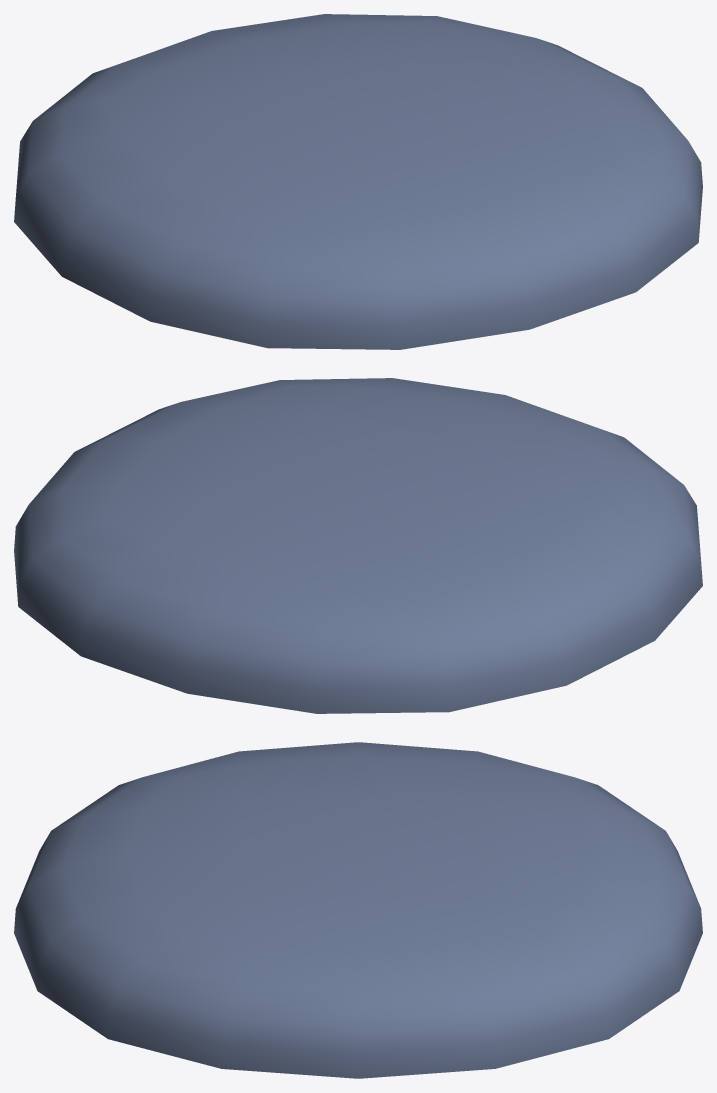
Rendered from Rock-S.fbx.
3 views of the same model, one above another, from view 1: azimuth 30°, elevation 25°; view 2: azimuth 150°, elevation 25°; view 3: azimuth 270°, elevation 25° (orthographic).
Visible parts, largest first — view 1: Rock-S_LOD0; view 2: Rock-S_LOD0; view 3: Rock-S_LOD0.
Part boxes in pixels (x1,y1,x2,y2): Rock-S_LOD0: [14, 14, 702, 349]; Rock-S_LOD0: [14, 378, 702, 713]; Rock-S_LOD0: [14, 742, 702, 1078].
Size of what is drawn, in the model's own units: 74.75 by 10.98 by 74.75.
